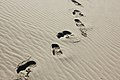human_foot_print: (14, 57, 35, 79), (57, 30, 79, 42), (51, 43, 62, 55), (71, 0, 82, 6)
